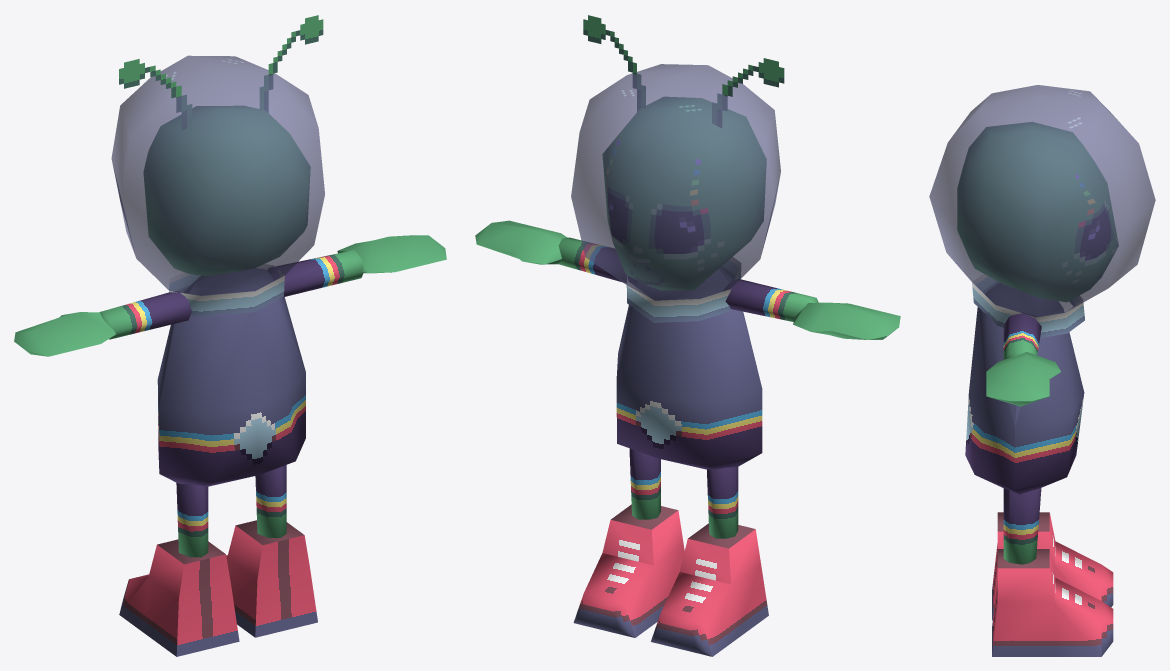
The model's file is alien.gltf.
3 renders of one model, left to right at view 1: azimuth 30°, elevation 25°; view 2: azimuth 150°, elevation 25°; view 3: azimuth 270°, elevation 25°, orthographic. The views are drawn at different scales.
Parts seen in each view (by area): view 1: helmet, head, alien, foot_left, foot_right, hand_left, hand_right, arm_left, arm_right, leg_left, leg_right; view 2: helmet, head, alien, foot_left, foot_right, hand_left, hand_right, arm_left, leg_left, leg_right, arm_right; view 3: helmet, head, alien, foot_right, foot_left, hand_right, leg_right, arm_right.
Part boxes in pixels (box(x1,y1,x2,y2)): helmet: box(111, 55, 324, 316); head: box(119, 15, 323, 275); alien: box(157, 268, 305, 486); foot_left: box(119, 539, 239, 656); foot_right: box(226, 520, 317, 637); hand_left: box(14, 312, 115, 356); hand_right: box(337, 235, 446, 273); arm_left: box(99, 291, 191, 339); arm_right: box(268, 250, 363, 297); leg_left: box(176, 483, 208, 557); leg_right: box(255, 465, 286, 537); helmet: box(571, 64, 780, 322); head: box(583, 15, 784, 289); alien: box(616, 268, 762, 469); foot_left: box(651, 523, 768, 656); foot_right: box(573, 504, 684, 637); hand_left: box(793, 302, 900, 339); hand_right: box(475, 220, 567, 264); arm_left: box(723, 279, 818, 321); leg_left: box(707, 466, 738, 538); leg_right: box(629, 448, 660, 519); arm_right: box(558, 237, 636, 284); helmet: box(929, 85, 1155, 337); head: box(957, 122, 1118, 301); alien: box(965, 283, 1084, 494); foot_right: box(992, 549, 1113, 656); foot_left: box(992, 512, 1113, 620); hand_right: box(986, 352, 1060, 406); leg_right: box(1003, 488, 1041, 564); arm_right: box(1003, 313, 1041, 359).
Size of the model in its own units: 1.25 by 1.67 by 0.6126.
2 materials, 2 textured.
